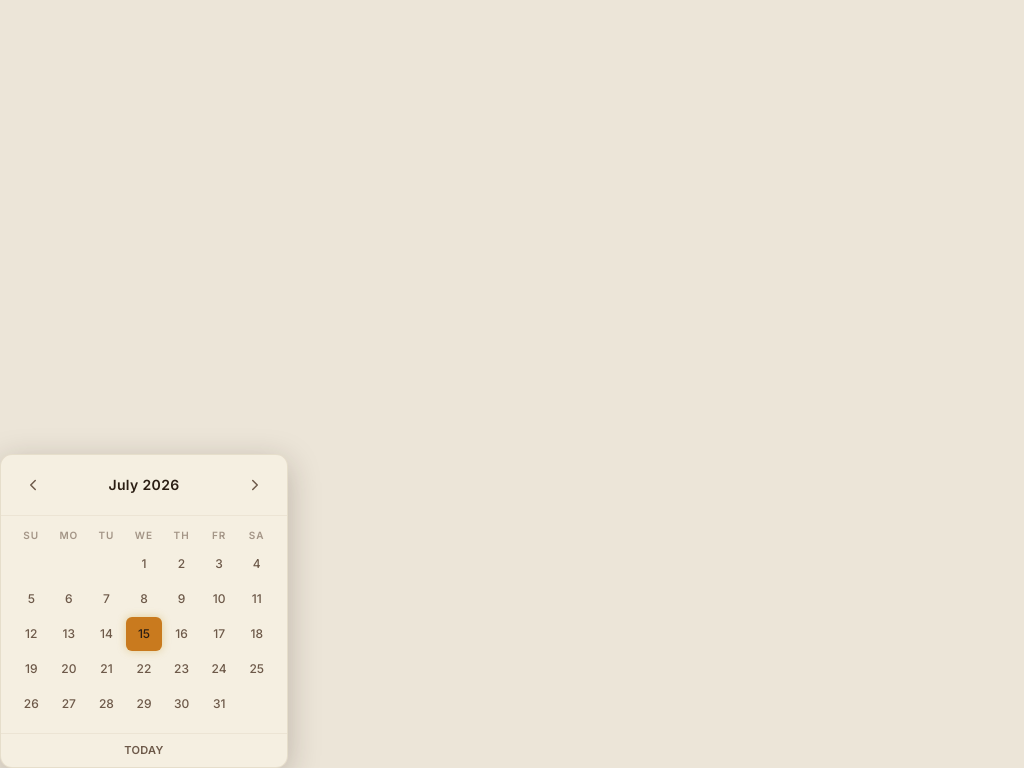
Test: CalendarPopup › renders "June" in EN when navigating to June 2026
(page scrolled)
What coordinates should you click on to do the following:
click the button named "Previous month"
I would click on:
 (33, 485)
Its box is [13,465,53,505].
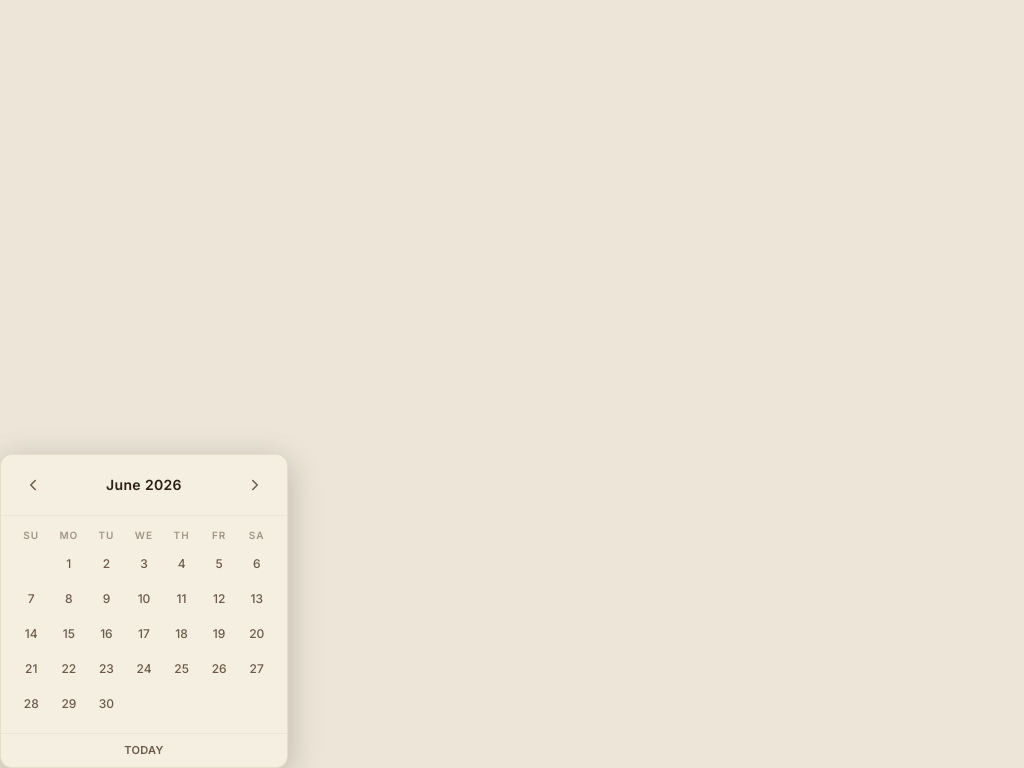
Expected: the text "June 2026" is shown, [106,475,182,495]
